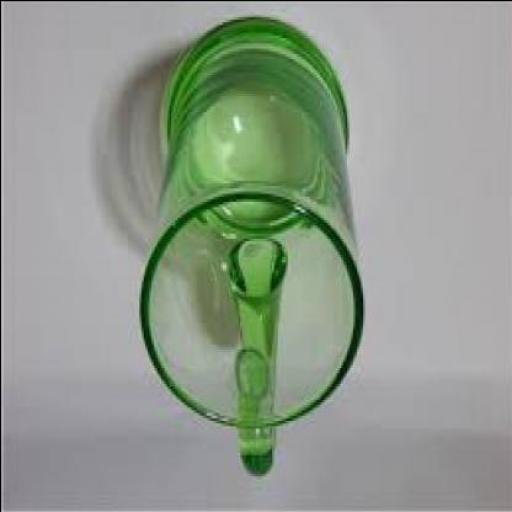glass: (138, 18, 360, 478)
